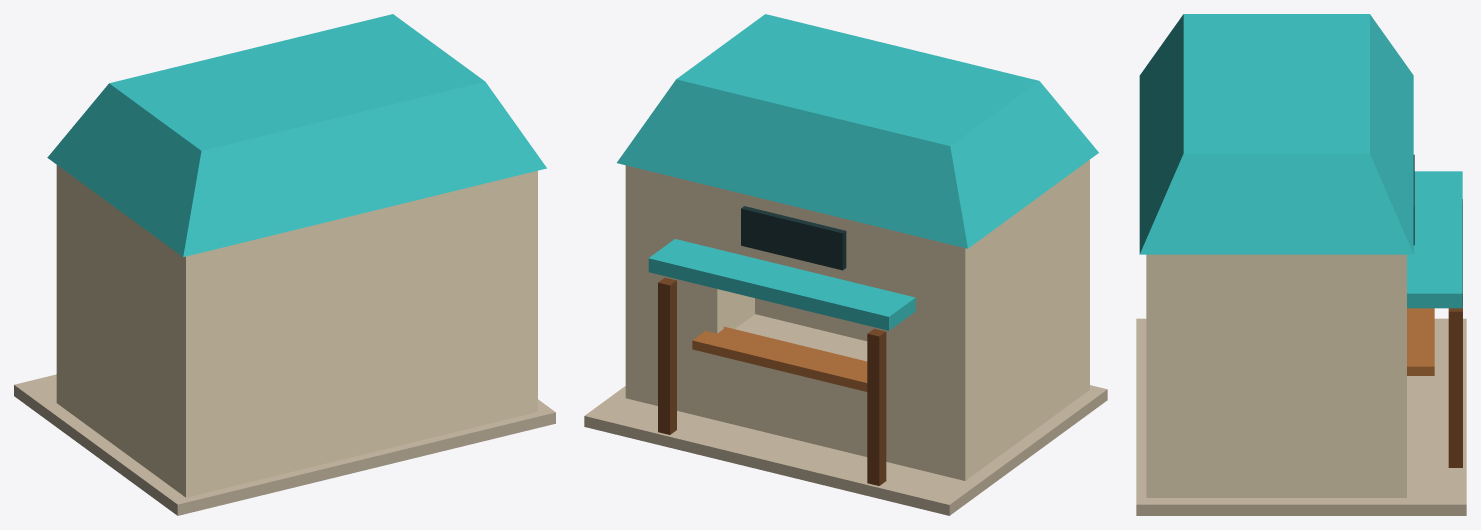
File: ticket_booth.fbx
3 renders of one model, left to right at view 1: azimuth 30°, elevation 25°; view 2: azimuth 150°, elevation 25°; view 3: azimuth 270°, elevation 25°, orthographic. The views are drawn at different scales.
Visible parts, largest first — view 1: ticket_booth; view 2: ticket_booth; view 3: ticket_booth.
Part boxes in pixels (left/top/right/bottom): ticket_booth: left=14, top=14, right=555, bottom=515; ticket_booth: left=584, top=14, right=1107, bottom=515; ticket_booth: left=1136, top=14, right=1466, bottom=515.
Size of the model in its own units: 4 by 3.4 by 3.
